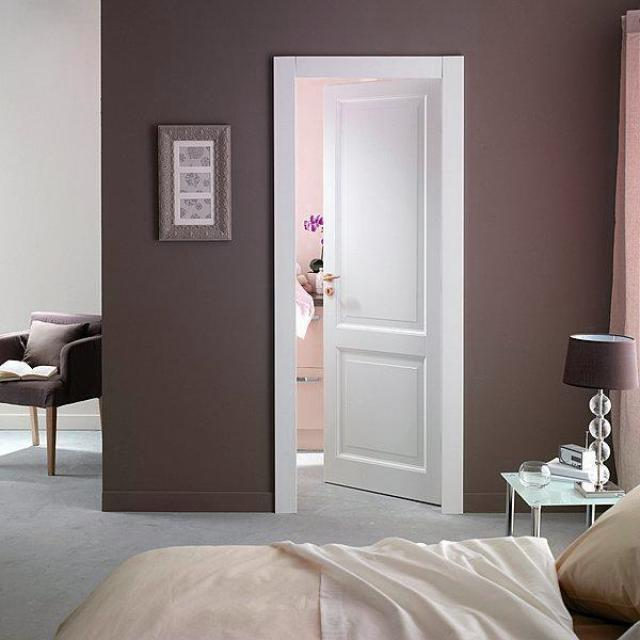door: (321, 78, 443, 505)
